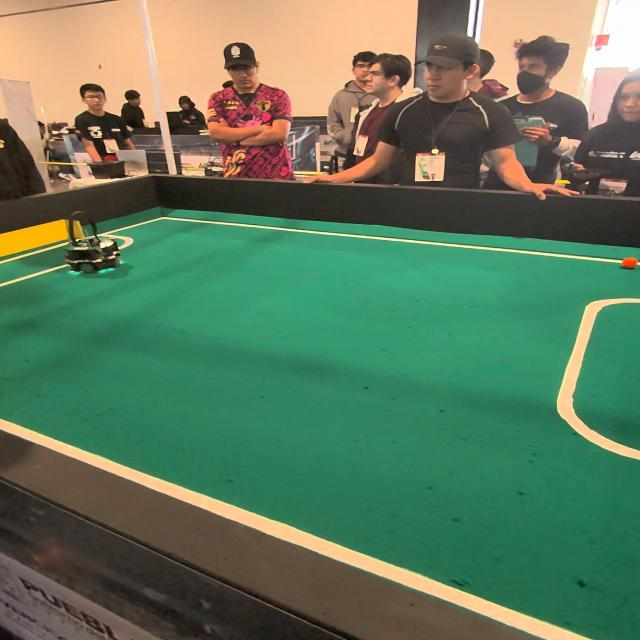Robot: (58, 208, 124, 279)
pelota: (621, 254, 640, 270)
